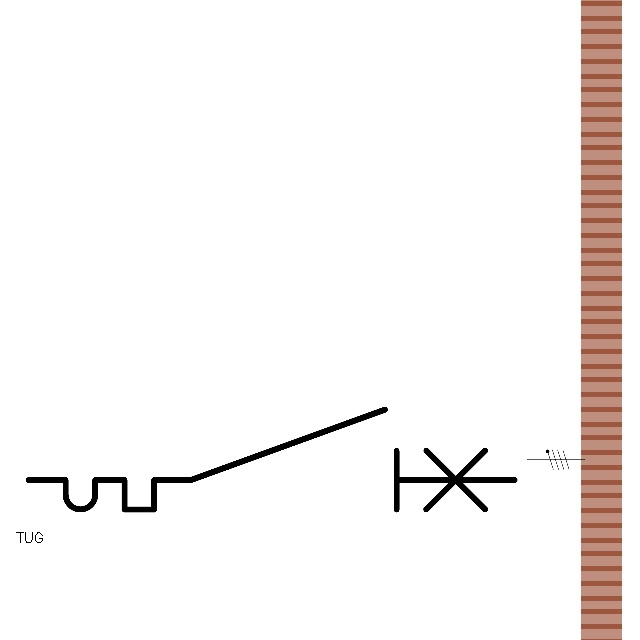interruptor_termomagnetico: (16, 397, 527, 522)
